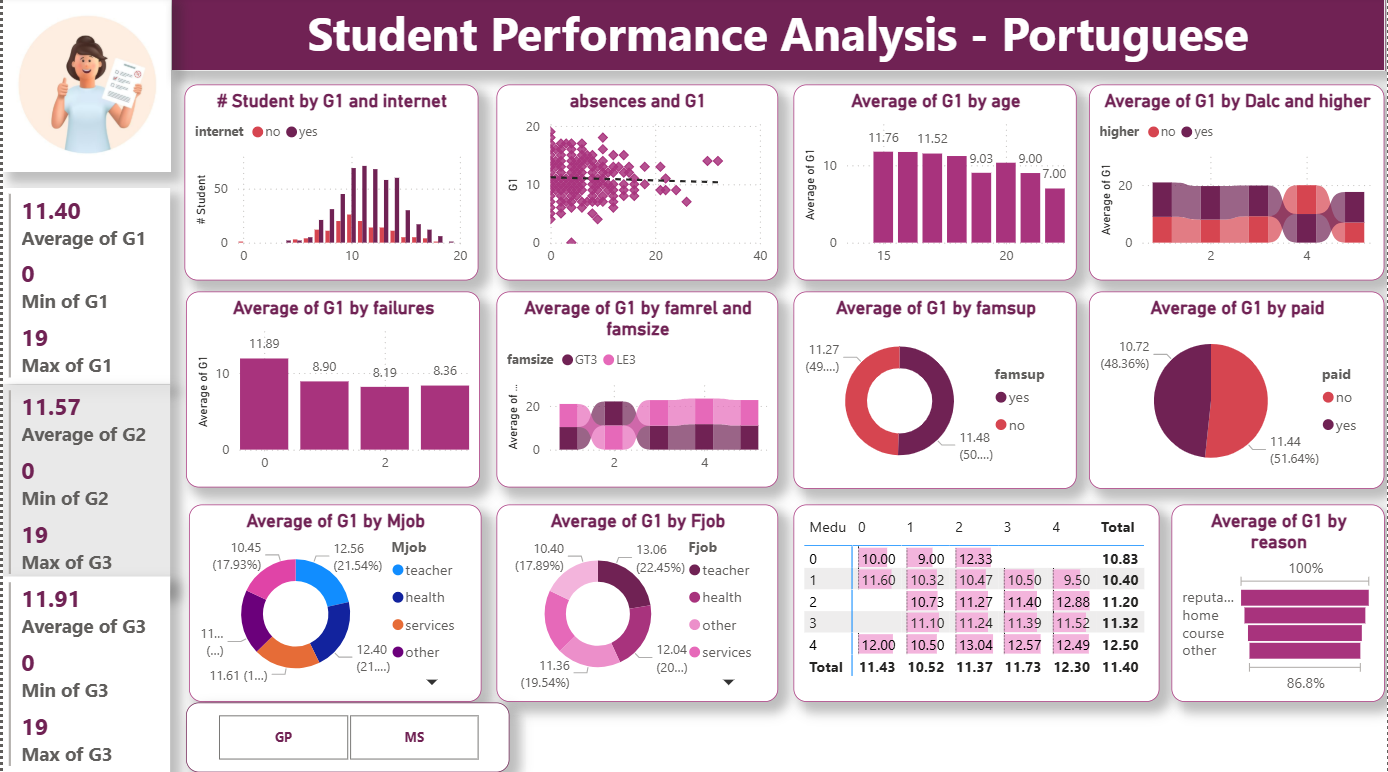

Layout of this report page (visuals, bound fields, positions):
{"tool":"powerbi","page":{"name":"Grade 1 Dashboard","canvas":[1280,720],"ordinal":2},"visuals":[{"type":"textbox","box":[155.4,0,1123.7,69.6],"z":0},{"type":"image","box":[0,0,155.4,163.5],"z":1000},{"type":"multiRowCard","fields":{"Values":["Avg(student por.G1)","Min(student por.G1)","Max(student por.G1)1"]},"box":[0,177.6,155,181.4],"z":2000},{"type":"multiRowCard","fields":{"Values":["Avg(student por.G2)","Min(student por.G2)","Max(student por.G3)"]},"box":[0,359.1,155,190.9],"z":3000},{"type":"multiRowCard","fields":{"Values":["Avg(student por.G3)","Min(student por.G3)","Max(student por.G3)"]},"box":[0,536.7,155,183.3],"z":4000},{"type":"clusteredColumnChart","fields":{"Y":["student por.# Student"],"Series":["student por.internet"],"Category":["student por.G1"]},"box":[168.4,82.6,272,181.4],"z":5000},{"type":"scatterChart","fields":{"X":["student por.absences"],"Y":["student por.G1"]},"box":[456.6,82.6,260.7,181.4],"z":6000},{"type":"clusteredColumnChart","fields":{"Category":["student por.age"],"Y":["Avg(student por.G1)"]},"box":[731.9,82.6,262.3,181.4],"z":7000},{"type":"ribbonChart","fields":{"Category":["student por.Dalc"],"Series":["student por.higher"],"Y":["Avg(student por.G1)"]},"box":[1005.5,82.6,273.6,181.4],"z":8000},{"type":"clusteredColumnChart","fields":{"Category":["student por.failures"],"Y":["Avg(student por.G1)"]},"box":[170,273.6,272,181.4],"z":9000},{"type":"ribbonChart","fields":{"Category":["student por.famrel"],"Series":["student por.famsize"],"Y":["Avg(student por.G1)"]},"box":[456.6,273.6,260.7,181.4],"z":10000},{"type":"donutChart","fields":{"Category":["student por.famsup"],"Y":["Avg(student por.G1)"]},"box":[731.9,273.6,262.3,183],"z":11000},{"type":"pieChart","fields":{"Category":["student por.paid"],"Y":["Avg(student por.G1)"]},"box":[1005.5,273.6,273.6,183],"z":12000},{"type":"donutChart","fields":{"Category":["student por.Mjob"],"Y":["Avg(student por.G1)"]},"box":[171.6,471.2,270.4,183],"z":13000},{"type":"donutChart","fields":{"Category":["student por.Fjob"],"Y":["Avg(student por.G1)"]},"box":[456.6,471.2,260.7,183],"z":14000},{"type":"pivotTable","fields":{"Rows":["student por.Medu"],"Columns":["student por.Fedu"],"Values":["Avg(student por.G1)"]},"box":[731.9,471.2,338.4,183],"z":15000},{"type":"funnel","fields":{"Category":["student por.reason"],"Y":["Avg(student por.G1)"]},"box":[1081.6,471.2,197.5,183],"z":16000},{"type":"slicer","fields":{"Values":["student por.school"]},"box":[170,654.2,299.6,64.8],"z":17000}]}

Visuals, with their boxes in screenshot pixels (x1, y1, x2, y2), scaled from the page's 1280x720 canvas onto the 1388x772 screenshot:
textbox: BBox(169, 0, 1387, 75)
image: BBox(0, 0, 169, 175)
multiRowCard - Avg(student por.G1) x Min(student por.G1): BBox(0, 190, 168, 385)
multiRowCard - Avg(student por.G2) x Min(student por.G2): BBox(0, 385, 168, 590)
multiRowCard - Avg(student por.G3) x Min(student por.G3): BBox(0, 575, 168, 771)
clusteredColumnChart - student por.# Student x student por.internet: BBox(183, 89, 478, 283)
scatterChart - student por.absences x student por.G1: BBox(495, 89, 778, 283)
clusteredColumnChart - student por.age x Avg(student por.G1): BBox(794, 89, 1078, 283)
ribbonChart - student por.Dalc x student por.higher: BBox(1090, 89, 1387, 283)
clusteredColumnChart - student por.failures x Avg(student por.G1): BBox(184, 293, 479, 488)
ribbonChart - student por.famrel x student por.famsize: BBox(495, 293, 778, 488)
donutChart - student por.famsup x Avg(student por.G1): BBox(794, 293, 1078, 490)
pieChart - student por.paid x Avg(student por.G1): BBox(1090, 293, 1387, 490)
donutChart - student por.Mjob x Avg(student por.G1): BBox(186, 505, 479, 701)
donutChart - student por.Fjob x Avg(student por.G1): BBox(495, 505, 778, 701)
pivotTable - student por.Medu x student por.Fedu: BBox(794, 505, 1161, 701)
funnel - student por.reason x Avg(student por.G1): BBox(1173, 505, 1387, 701)
slicer - student por.school: BBox(184, 701, 509, 771)
